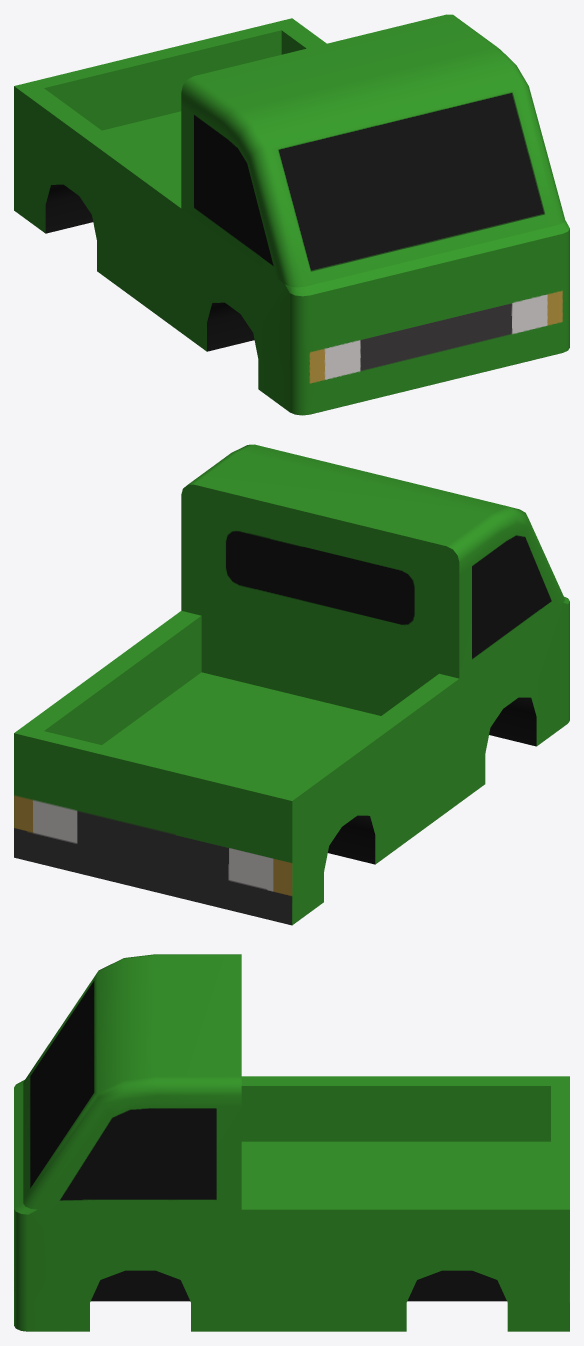
The model's file is cardboard_car5_body.fbx.
3 renders of one model, top to bottom at view 1: azimuth 30°, elevation 25°; view 2: azimuth 150°, elevation 25°; view 3: azimuth 270°, elevation 25°, orthographic.
Parts seen in each view (by area): view 1: cardboard_car5_body; view 2: cardboard_car5_body; view 3: cardboard_car5_body.
Part boxes in pixels (x1,y1,x2,y2): cardboard_car5_body: [14, 14, 569, 415]; cardboard_car5_body: [14, 444, 569, 925]; cardboard_car5_body: [14, 954, 569, 1331].
Bounding box in the file's own units: 128 × 111 × 225.
